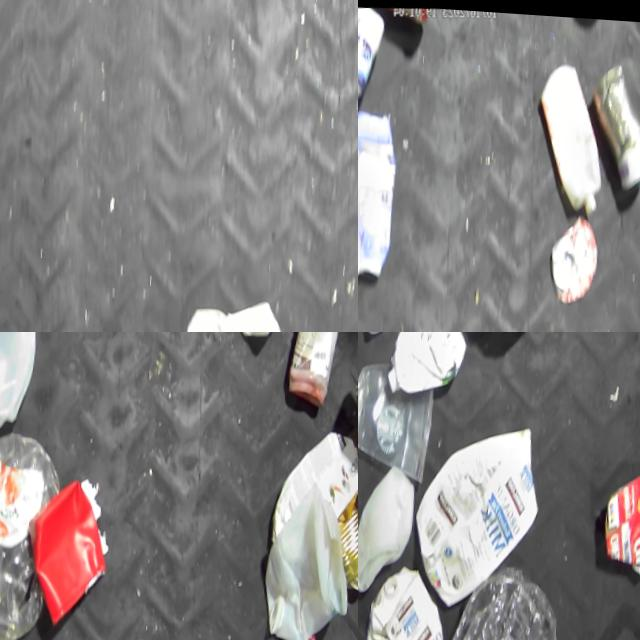can: (0, 420, 77, 640), (586, 55, 640, 185), (550, 207, 606, 297), (335, 463, 358, 585)
milk_jug: (413, 412, 559, 607), (261, 471, 358, 640), (270, 416, 358, 537), (358, 459, 429, 590), (358, 104, 408, 278), (369, 555, 465, 640), (358, 0, 394, 181), (183, 288, 310, 332), (0, 332, 48, 432)
